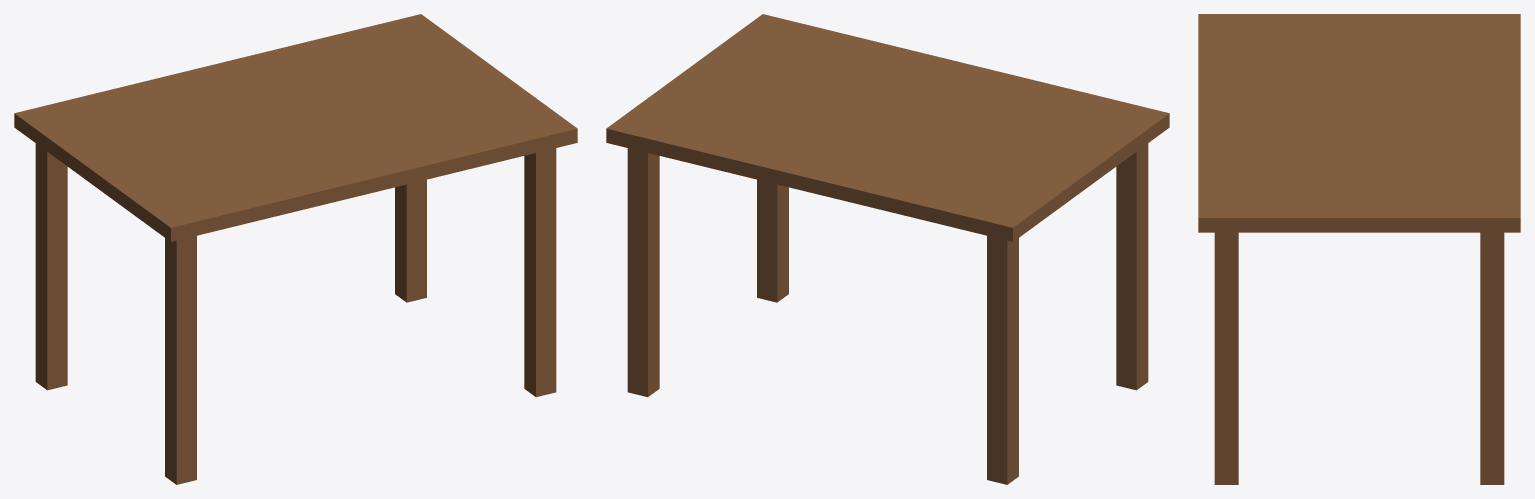
Rendered from table.obj.
3 views of the same model, side by side, from view 1: azimuth 30°, elevation 25°; view 2: azimuth 150°, elevation 25°; view 3: azimuth 270°, elevation 25° (orthographic). The views are drawn at different scales.
Parts seen in each view (by area): view 1: Top, Leg_FR, Leg_FL, Leg_BL, Leg_BR; view 2: Top, Leg_BR, Leg_BL, Leg_FL, Leg_FR; view 3: Top, Leg_BR, Leg_FR.
Part boxes in pixels (x1=…): Top: x1=14, y1=14, x2=577, y2=241; Leg_FR: x1=524, y1=148, x2=556, y2=397; Leg_FL: x1=165, y1=236, x2=196, y2=484; Leg_BL: x1=35, y1=143, x2=67, y2=390; Leg_BR: x1=395, y1=179, x2=426, y2=302; Top: x1=606, y1=14, x2=1169, y2=241; Leg_BR: x1=627, y1=148, x2=659, y2=397; Leg_BL: x1=987, y1=236, x2=1018, y2=484; Leg_FL: x1=1116, y1=143, x2=1148, y2=390; Leg_FR: x1=757, y1=179, x2=788, y2=302; Top: x1=1198, y1=14, x2=1520, y2=232; Leg_BR: x1=1480, y1=232, x2=1504, y2=484; Leg_FR: x1=1214, y1=232, x2=1238, y2=484.
Size of the model in its own units: 1.2 by 0.75 by 0.8.
